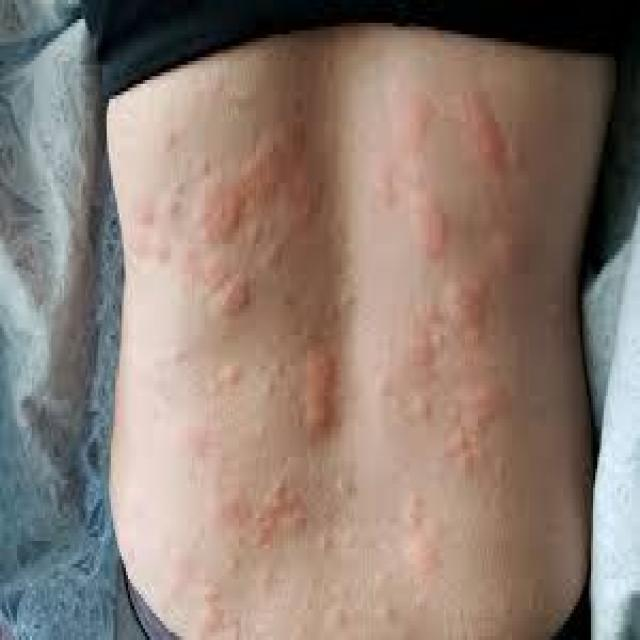Shingles: (120, 79, 545, 637)
